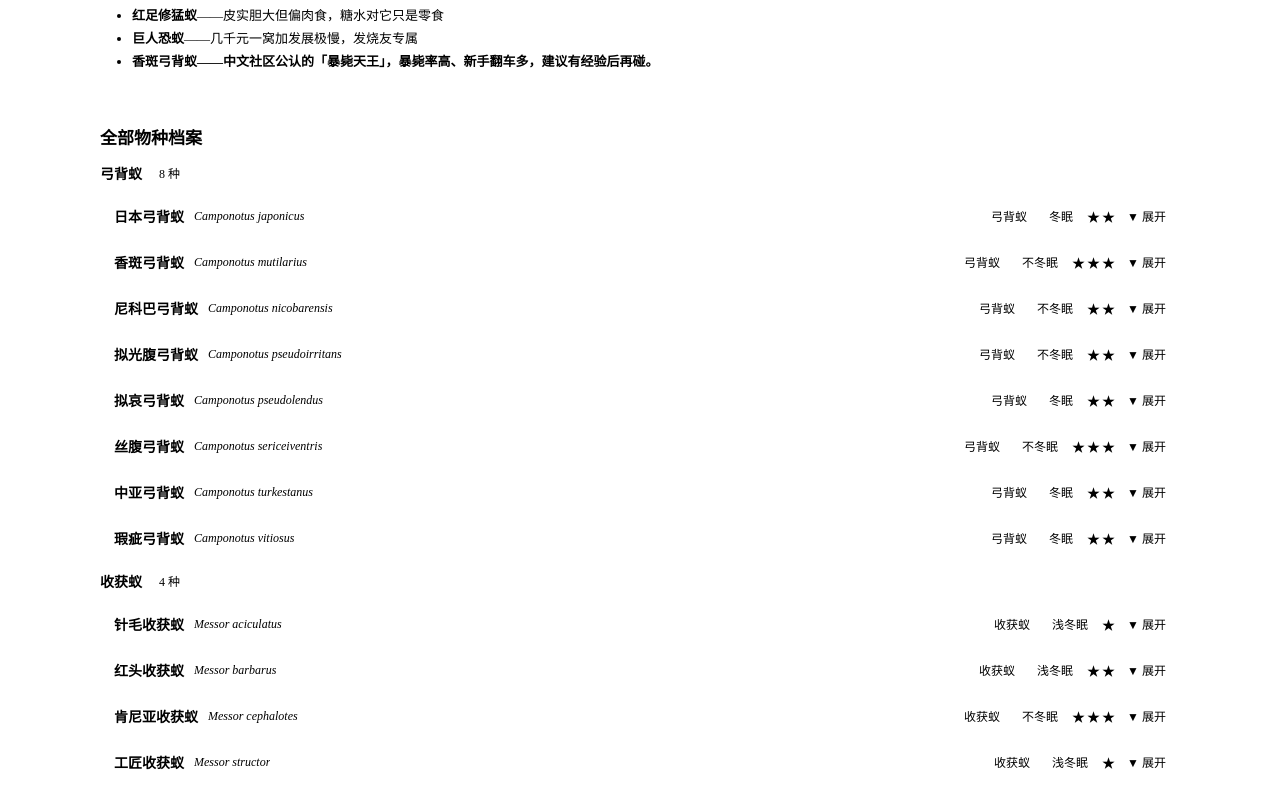
图鉴页 · 全部物种档案 › 空字段显示「暂无资料」：拟哀弓背蚁（大量查无实据）展开后 13 处留空位全部如实显示
This screenshot has width=1280, height=800.
(page scrolled)
Click the button with class "sp-head" that starts with "拟哀弓背蚁": coordinates (149, 402) [100,381,1180,419]
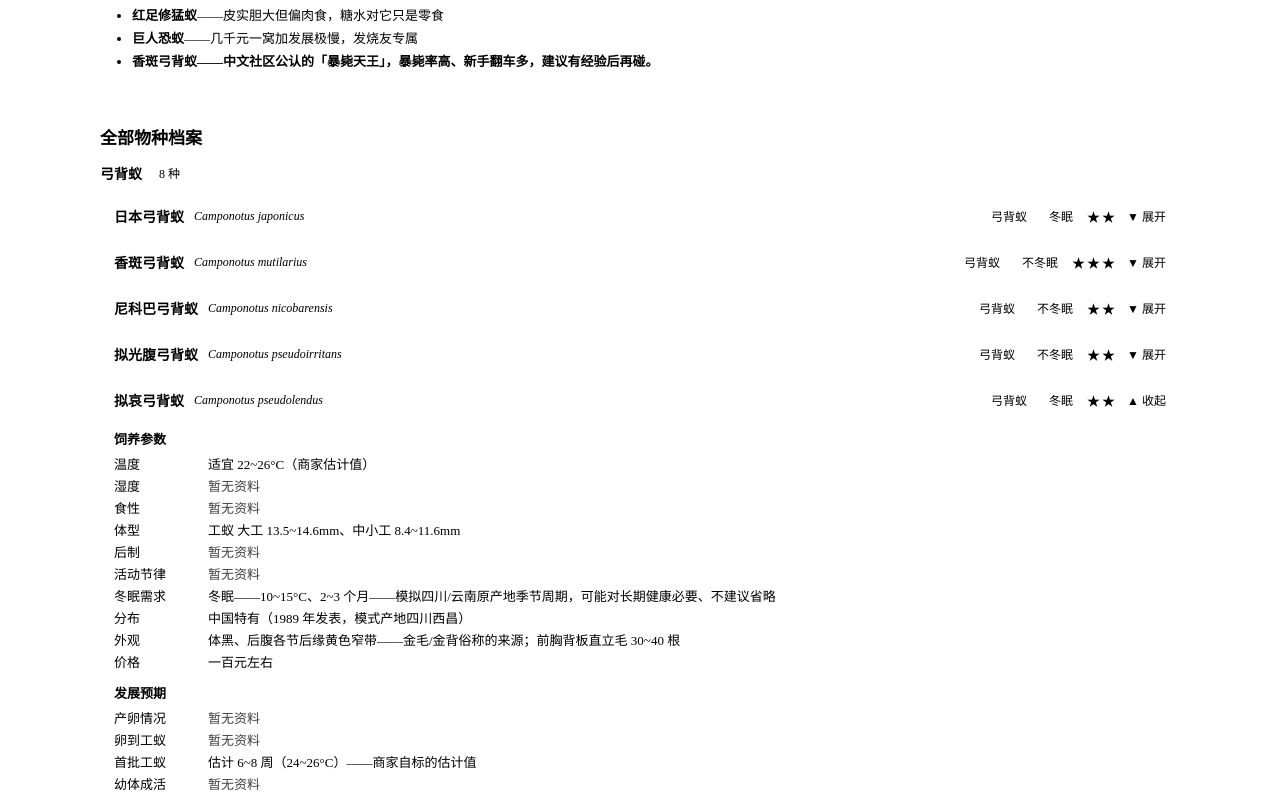
Expected: the element showing "湿度 暂无资料" is shown, [114,479,260,494]
Expected: the element showing "食性 暂无资料" is shown, [114,501,260,516]
Expected: the element showing "后制 暂无资料" is shown, [114,545,260,560]
